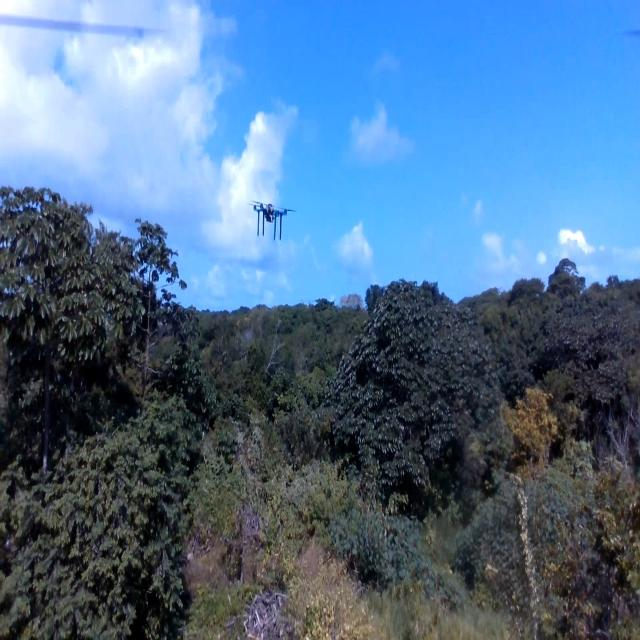-uav-: (239, 187, 300, 254)
